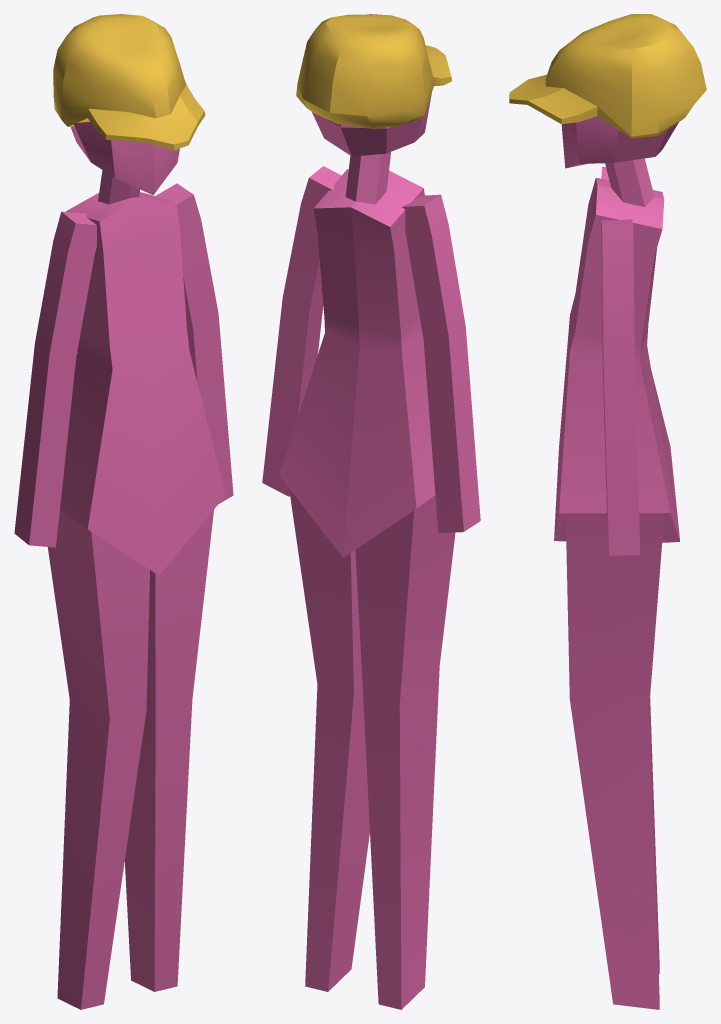
Rendered from woman03.glb.
3 views of the same model, side by side, from view 1: azimuth 30°, elevation 25°; view 2: azimuth 150°, elevation 25°; view 3: azimuth 270°, elevation 25° (orthographic).
Visible parts, largest first — view 1: woman03_col; view 2: woman03_col; view 3: woman03_col.
Part boxes in pixels (<box>): woman03_col: <box>14,14,233,1009</box>; woman03_col: <box>262,14,480,1009</box>; woman03_col: <box>509,14,706,1009</box>.
Bounding box in the file's own units: 2.76 × 12.46 × 2.33.
